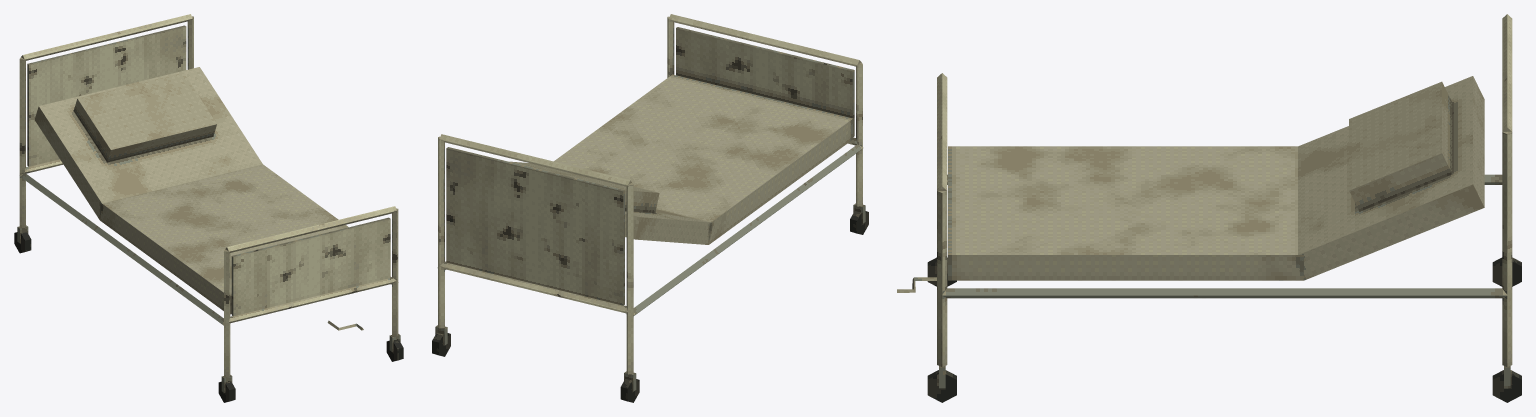
Rendered from Bed_Hospital_01.glb.
3 views of the same model, side by side, from view 1: azimuth 30°, elevation 25°; view 2: azimuth 150°, elevation 25°; view 3: azimuth 270°, elevation 25° (orthographic). The views are drawn at different scales.
Visible parts, largest first — view 1: Bed_Hospital_01; view 2: Bed_Hospital_01; view 3: Bed_Hospital_01.
Boxes of the visible parts, x1,y1,x2,y2 form: Bed_Hospital_01: (14,14,403,402); Bed_Hospital_01: (432,14,868,402); Bed_Hospital_01: (897,14,1521,402).
Size of the model in its own units: 0.997 by 1.07 by 2.21.
1 material, 1 textured.
